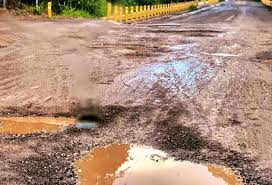pothole: (63, 136, 258, 185), (2, 108, 75, 135), (108, 38, 161, 61), (169, 23, 224, 39)
